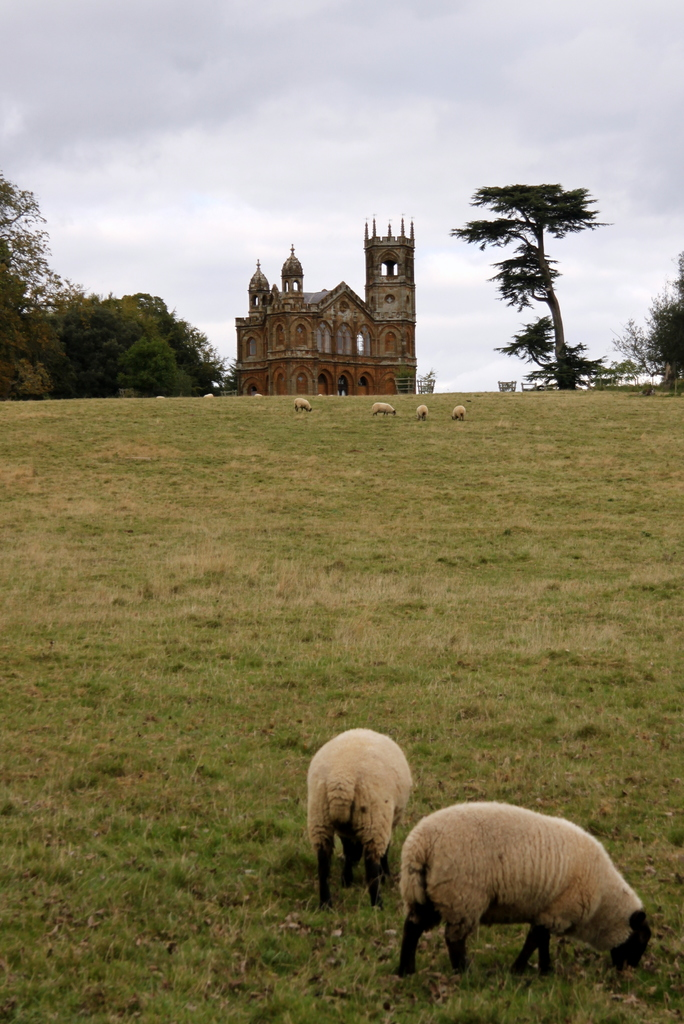sheep: (400, 801, 655, 979), (374, 400, 393, 421), (293, 392, 309, 408), (452, 407, 466, 422), (418, 403, 426, 421)
